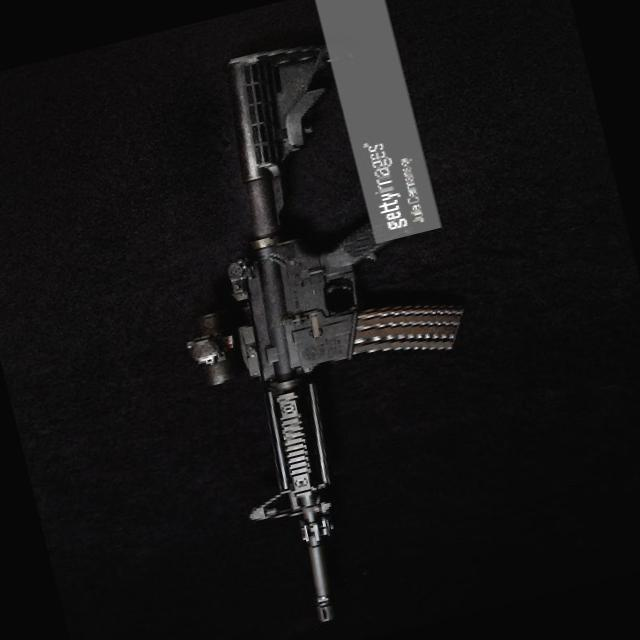long weapon: (101, 7, 529, 639)
